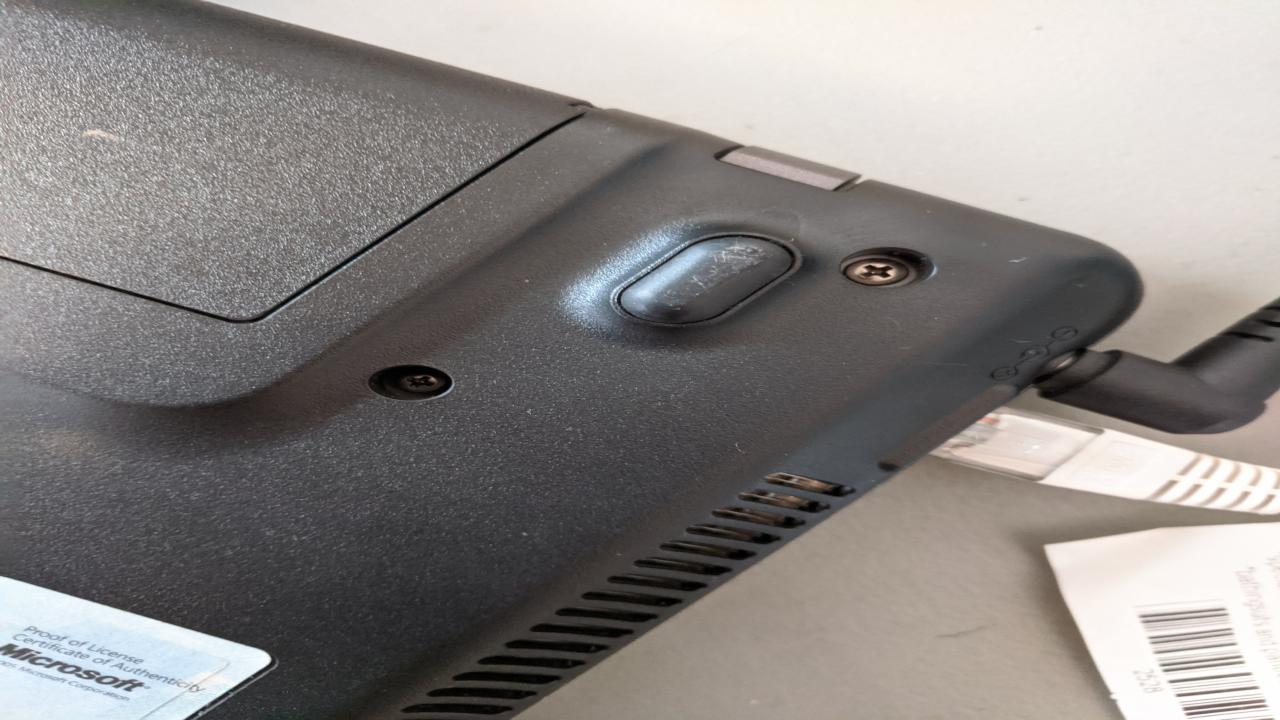CRS: (836, 250, 911, 292), (380, 369, 454, 398)
